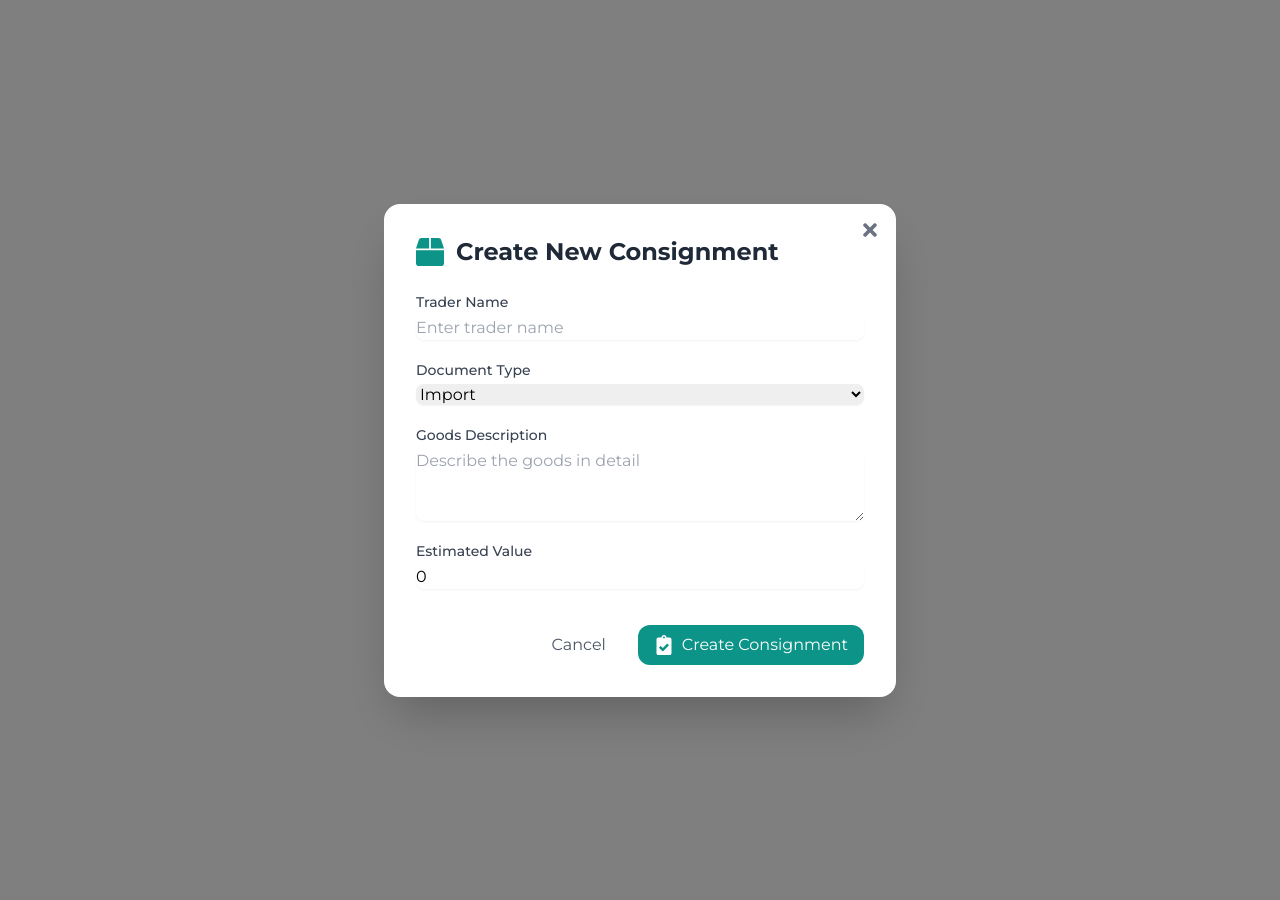
it: ConsignmentCreationModal validation › shows validation errors and does not submit when fields are invalid
The width and height of the screenshot is (1280, 900).
Click the button "Create Consignment". click: (751, 644)
box: 638,624 -> 864,664
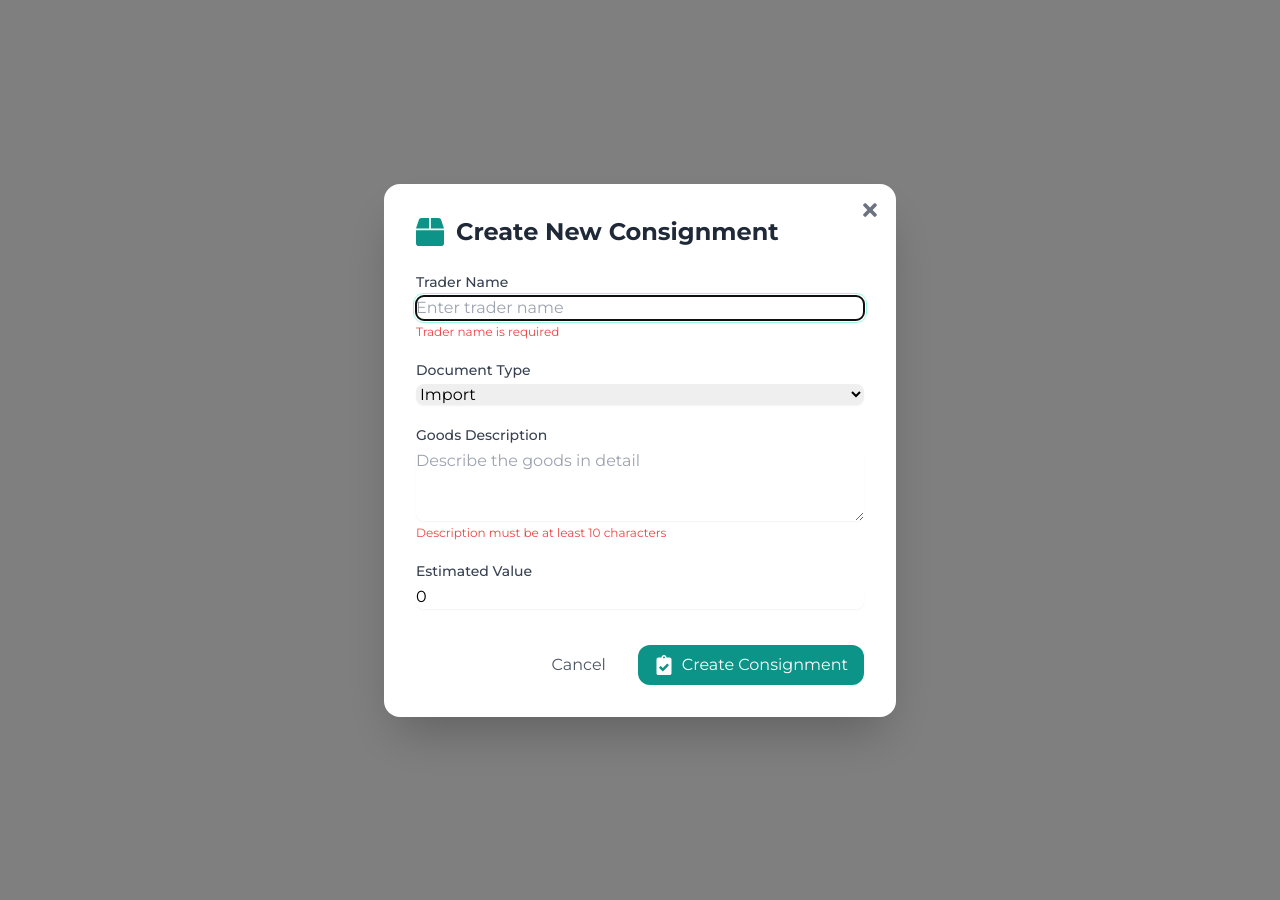
Expected: the text "Trader name is required" is shown, 416,324 -> 559,338
Expected: the text "Description must be at least 10 characters" is shown, 416,524 -> 666,540
